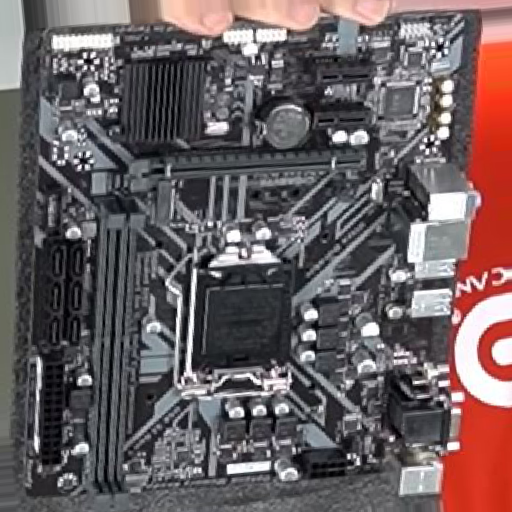CPU: (176, 219, 304, 398)
GPU: (130, 146, 367, 192)
MOTHERBOARD: (19, 24, 457, 492)
RAM: (83, 214, 145, 496)
SSD: (152, 181, 176, 225)
